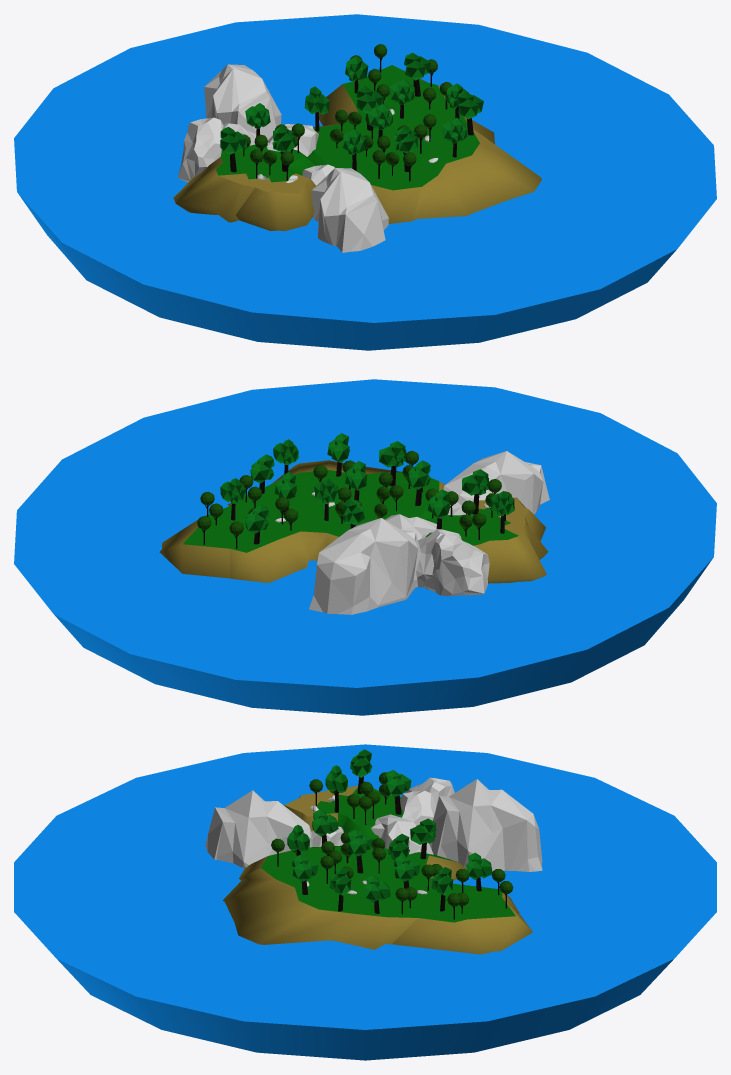
File: Island_1220.obj
3 views of the same model, one above another, from view 1: azimuth 30°, elevation 25°; view 2: azimuth 150°, elevation 25°; view 3: azimuth 270°, elevation 25° (orthographic). The views are drawn at different scales.
Visible parts, largest first — view 1: tree_2_033; view 2: tree_2_033; view 3: tree_2_033.
Boxes of the visible parts, bbox=[...] form: tree_2_033: bbox=[14, 14, 716, 350]; tree_2_033: bbox=[14, 379, 716, 715]; tree_2_033: bbox=[14, 744, 716, 1060].
Bounding box in the file's own units: 364 × 76.34 × 379.
